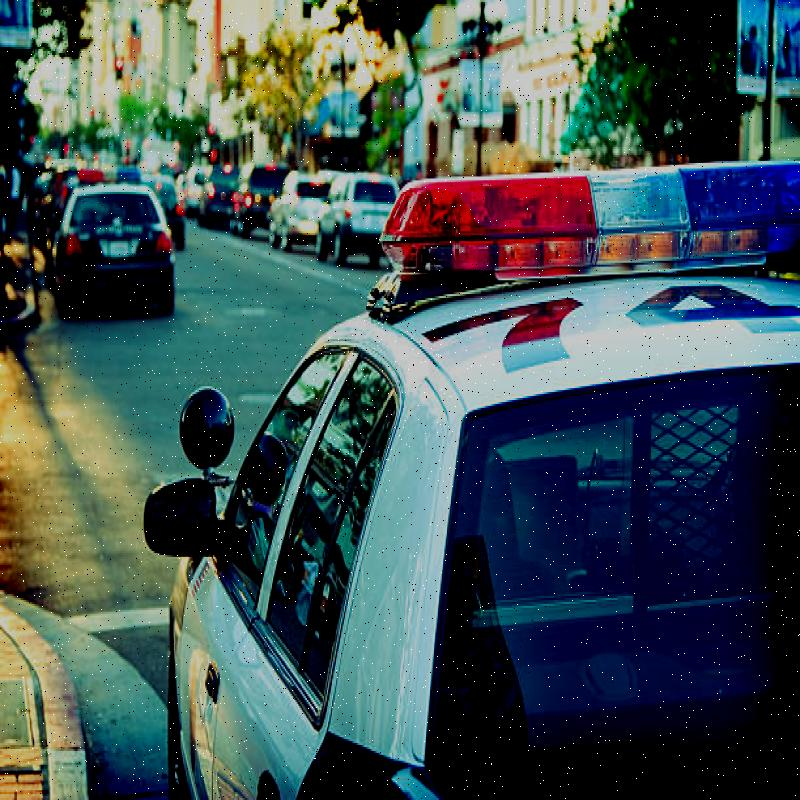AmbulanceSiren: (364, 119, 800, 298)
